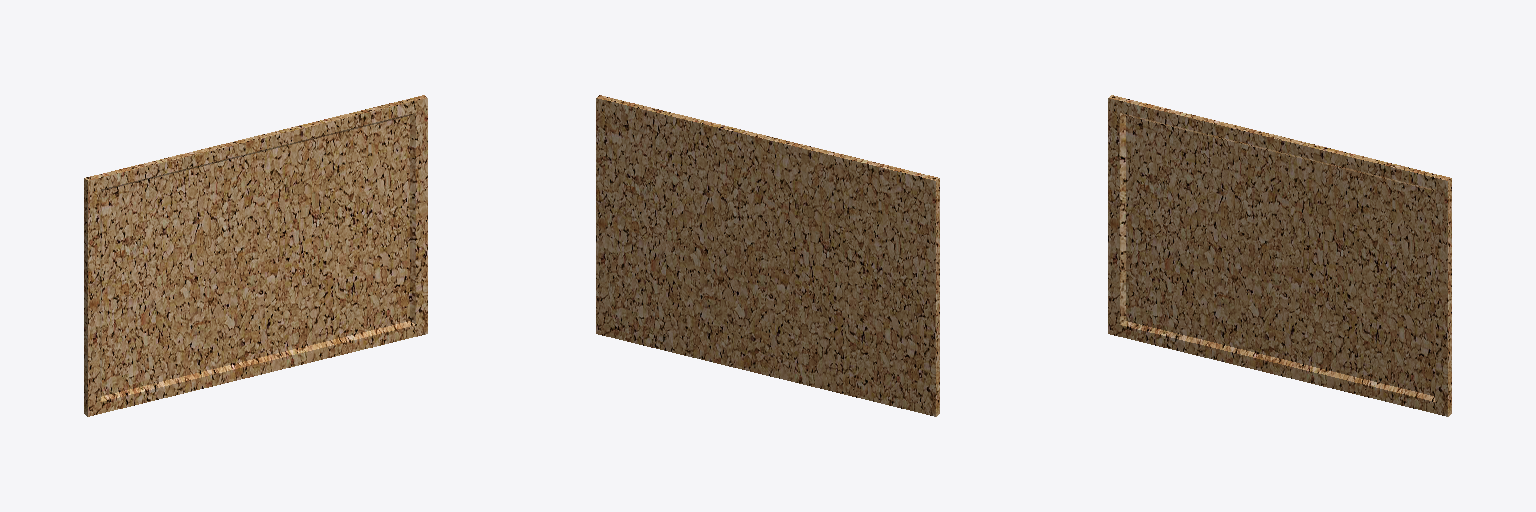
3 renders of one model, left to right at view 1: azimuth 30°, elevation 25°; view 2: azimuth 150°, elevation 25°; view 3: azimuth 330°, elevation 25°, orthographic.
Visible parts, largest first — view 1: |board_VISUALIZE|Root|color; view 2: |board_VISUALIZE|Root|color; view 3: |board_VISUALIZE|Root|color.
Part boxes in pixels (x1,y1,x2,y2): |board_VISUALIZE|Root|color: (84, 95, 427, 416); |board_VISUALIZE|Root|color: (596, 95, 939, 416); |board_VISUALIZE|Root|color: (1108, 95, 1451, 416).
Bounding box in the file's own units: 1 × 0.6636 × 0.02.
1 materials, 1 textured.